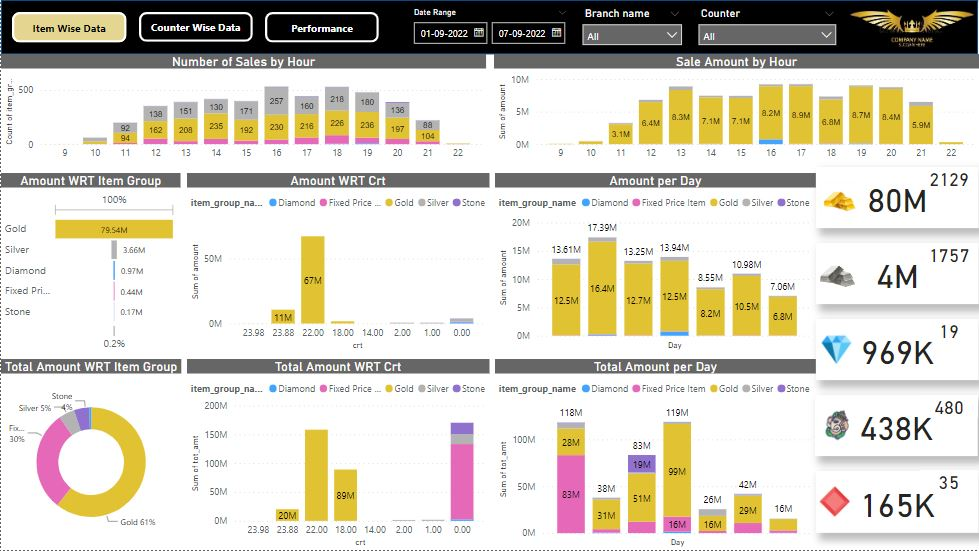

The dashboard page shown, as its layout file describes it:
{"tool":"powerbi","page":{"name":"Item ","canvas":[1280,720],"ordinal":0},"visuals":[{"type":"shape","title":"Header Background","box":[0,0,1278.7,70.6],"z":0},{"type":"actionButton","title":"Item wise Data Button","box":[15,15.1,149.5,40.3],"z":1000},{"type":"actionButton","title":"Item wise Data Button","box":[180,15.4,148.7,39.3],"z":2000},{"type":"funnel","title":"Amount WRT Item Group","fields":{"Category":["Sales_Data.item_group_name"],"Y":["Sum(Sales_Data.amount)"]},"box":[0,226.1,235,236.2],"z":3000},{"type":"actionButton","title":"Item wise Data Button","box":[345,15.8,149.2,40.4],"z":4000},{"type":"columnChart","title":"Amount WRT Crt","fields":{"Category":["Sales_Data.crt"],"Y":["Sum(Sales_Data.amount)"],"Series":["Sales_Data.item_group_name"]},"box":[243.4,226.1,396,236.2],"z":5000},{"type":"donutChart","title":"Total Amount WRT Item Group","fields":{"Category":["Sales_Data.item_group_name"],"Y":["Sum(Sales_Data.tot_amt)"]},"box":[0,469.4,236,250.6],"z":6000},{"type":"columnChart","title":"Total Amount WRT Crt","fields":{"Category":["Sales_Data.crt"],"Y":["Sum(Sales_Data.tot_amt)"],"Series":["Sales_Data.item_group_name"]},"box":[243.4,469.4,396,250.6],"z":7000},{"type":"columnChart","title":"Amount per Day","fields":{"Category":["Sales_Data.DateTime.Variation.Date Hierarchy.Year","Sales_Data.DateTime.Variation.Date Hierarchy.Quarter","Sales_Data.DateTime.Variation.Date Hierarchy.Month","Sales_Data.DateTime.Variation.Date Hierarchy.Day"],"Y":["Sum(Sales_Data.amount)"],"Series":["Sales_Data.item_group_name"]},"box":[646.6,226.1,420.5,236.2],"z":8000},{"type":"columnChart","title":"Total Amount per Day","fields":{"Category":["Sales_Data.DateTime.Variation.Date Hierarchy.Year","Sales_Data.DateTime.Variation.Date Hierarchy.Quarter","Sales_Data.DateTime.Variation.Date Hierarchy.Month","Sales_Data.DateTime.Variation.Date Hierarchy.Day"],"Y":["Sum(Sales_Data.tot_amt)"],"Series":["Sales_Data.item_group_name"]},"box":[646.6,469.4,420.5,250.6],"z":9000},{"type":"columnChart","title":"Number of Sales by Hour","fields":{"Category":["Sales_Data.Hour"],"Y":["CountNonNull(Sales_Data.item_group_name)"],"Series":["Sales_Data.item_group_name"]},"box":[0,70.6,635,148.3],"z":10000},{"type":"columnChart","title":"Sale Amount by Hour","fields":{"Category":["Sales_Data.Hour"],"Series":["Sales_Data.item_group_name"],"Y":["Sum(Sales_Data.amount)"]},"box":[645,70.6,635,148.3],"z":11000},{"type":"slicer","title":"Branch Name Slicer","fields":{"Values":["Sales_Data.dt"]},"box":[527,5.8,224.6,60.5],"z":12000},{"type":"card","fields":{"Values":["Sum(Sales_Data.amount)"]},"box":[1067,219,213,80],"z":13000},{"type":"card","fields":{"Values":["Sum(Sales_Data.amount)"]},"box":[1066.9,318.2,213.1,80],"z":14000},{"type":"card","fields":{"Values":["Sum(Sales_Data.amount)"]},"box":[1065.6,517,213.1,80],"z":15000},{"type":"card","fields":{"Values":["Sum(Sales_Data.amount)"]},"box":[1066.9,417.6,213.1,80],"z":16000},{"type":"card","fields":{"Values":["Sum(Sales_Data.amount)"]},"box":[1066.9,616.3,213.1,80.6],"z":17000},{"type":"image","box":[1068.5,233.3,60.5,60.5],"z":18000},{"type":"image","box":[1065.6,332.6,60.5,60.5],"z":19000},{"type":"image","box":[1068.5,433.4,50.4,49],"z":20000},{"type":"image","box":[1069.9,531.4,50.4,50.4],"z":21000},{"type":"card","fields":{"Values":["CountNonNull(Sales_Data.item_group_name)"]},"box":[1203.7,218.9,76.3,30],"z":22000},{"type":"card","fields":{"Values":["CountNonNull(Sales_Data.item_group_name)"]},"box":[1203.7,318.2,76.3,30],"z":23000},{"type":"card","fields":{"Values":["CountNonNull(Sales_Data.item_group_name)"]},"box":[1203.7,417.6,76.3,30],"z":24000},{"type":"card","fields":{"Values":["CountNonNull(Sales_Data.item_group_name)"]},"box":[1203.7,517,76.3,30],"z":25000},{"type":"card","fields":{"Values":["CountNonNull(Sales_Data.item_group_name)"]},"box":[1203.7,614.9,76.3,30],"z":26000},{"type":"slicer","title":"Branch Name Slicer","fields":{"Values":["Sales_Data.branch_name"]},"box":[751.7,4,149.8,60.5],"z":27000},{"type":"slicer","title":"Counter Slicer","fields":{"Values":["Sales_Data.name"]},"box":[902.9,4.3,200.2,60.5],"z":28000},{"type":"image","box":[1067,630.7,49,50.4],"z":29000},{"type":"image","box":[1103,0,177.1,70.6],"z":29001}]}

Visuals, with their boxes in screenshot pixels (x1, y1, x2, y2), scaled from the page's 1280x720 canvas onto the 979x551 screenshot:
"Header Background" shape: Rect(0, 0, 978, 54)
"Item wise Data Button" actionButton: Rect(11, 12, 126, 42)
"Item wise Data Button" actionButton: Rect(138, 12, 251, 42)
"Amount WRT Item Group" funnel: Rect(0, 173, 180, 354)
"Item wise Data Button" actionButton: Rect(264, 12, 378, 43)
"Amount WRT Crt" columnChart: Rect(186, 173, 489, 354)
"Total Amount WRT Item Group" donutChart: Rect(0, 359, 181, 550)
"Total Amount WRT Crt" columnChart: Rect(186, 359, 489, 550)
"Amount per Day" columnChart: Rect(495, 173, 816, 354)
"Total Amount per Day" columnChart: Rect(495, 359, 816, 550)
"Number of Sales by Hour" columnChart: Rect(0, 54, 486, 168)
"Sale Amount by Hour" columnChart: Rect(493, 54, 978, 168)
"Branch Name Slicer" slicer: Rect(403, 4, 575, 51)
card - Sum(Sales_Data.amount): Rect(816, 168, 978, 229)
card - Sum(Sales_Data.amount): Rect(816, 244, 978, 305)
card - Sum(Sales_Data.amount): Rect(815, 396, 978, 457)
card - Sum(Sales_Data.amount): Rect(816, 320, 978, 381)
card - Sum(Sales_Data.amount): Rect(816, 472, 978, 533)
image: Rect(817, 179, 864, 225)
image: Rect(815, 255, 861, 301)
image: Rect(817, 332, 856, 369)
image: Rect(818, 407, 857, 445)
card - CountNonNull(Sales_Data.item_group_name): Rect(921, 168, 978, 190)
card - CountNonNull(Sales_Data.item_group_name): Rect(921, 244, 978, 266)
card - CountNonNull(Sales_Data.item_group_name): Rect(921, 320, 978, 343)
card - CountNonNull(Sales_Data.item_group_name): Rect(921, 396, 978, 419)
card - CountNonNull(Sales_Data.item_group_name): Rect(921, 471, 978, 494)
"Branch Name Slicer" slicer: Rect(575, 3, 690, 49)
"Counter Slicer" slicer: Rect(691, 3, 844, 50)
image: Rect(816, 483, 854, 521)
image: Rect(844, 0, 978, 54)
